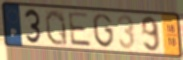3: (116, 14, 137, 52), (24, 8, 42, 45)
9: (140, 15, 161, 53)
E: (67, 11, 93, 49)
G: (92, 13, 116, 50)
Q: (44, 9, 69, 47)
